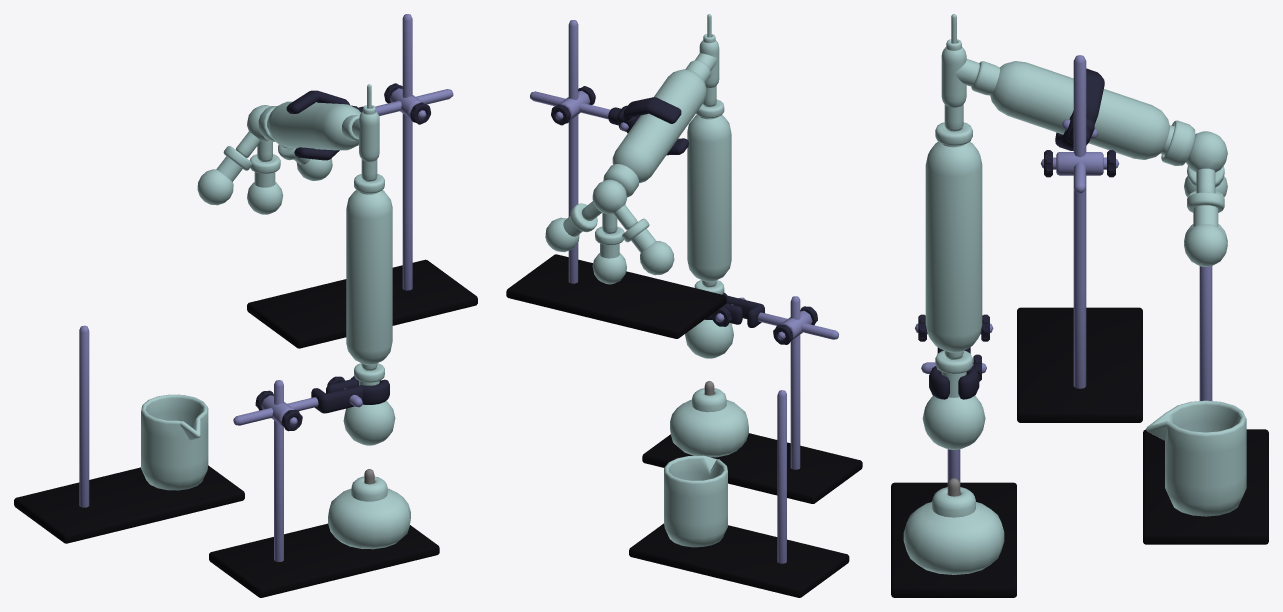
The model's file is LastLuna_Model_Station_Fractional_Distiller.fbx.
The picture shows the model from 3 angles, left to right: view 1: azimuth 30°, elevation 25°; view 2: azimuth 150°, elevation 25°; view 3: azimuth 270°, elevation 25°; orthographic projection. The views are drawn at different scales.
Parts seen in each view (by area): view 1: Stand_Base002, Stand_Base001, Fractional_Column001, Stand_Base003, Beaker001, Alcohol_Lamp001, Condenser001, Stand_Pole_Tall001, Flask_Round001, Stand_Pole002, Flask_Round_Small003, Distill_Collector001 (+8 smaller); view 2: Stand_Base003, Stand_Base002, Fractional_Column001, Stand_Base001, Beaker001, Condenser001, Alcohol_Lamp001, Multi_Flask_Adapter001, Stand_Pole_Tall001, Stand_Pole002, Stand_Pole001, Flask_Round001 (+8 smaller); view 3: Stand_Base003, Fractional_Column001, Condenser001, Beaker001, Stand_Base001, Stand_Base002, Alcohol_Lamp001, Stand_Pole_Tall001, Flask_Round001, Multi_Flask_Adapter001, Flask_Round_Small001, Distill_Collector001 (+6 smaller).
Boxes of the visible parts, left/top/right/bottom form: Stand_Base002: left=14, top=465, right=244, bottom=543; Stand_Base001: left=209, top=523, right=439, bottom=597; Fractional_Column001: left=346, top=174, right=392, bottom=370; Stand_Base003: left=247, top=259, right=477, bottom=348; Beaker001: left=141, top=394, right=208, bottom=490; Alcohol_Lamp001: left=328, top=476, right=410, bottom=549; Condenser001: left=267, top=101, right=360, bottom=150; Stand_Pole_Tall001: left=402, top=14, right=412, bottom=290; Flask_Round001: left=343, top=363, right=395, bottom=445; Stand_Pole002: left=79, top=325, right=89, bottom=507; Flask_Round_Small003: left=197, top=146, right=252, bottom=205; Distill_Collector001: left=352, top=84, right=379, bottom=181; Stand_Base003: left=506, top=254, right=726, bottom=338; Stand_Base002: left=629, top=523, right=849, bottom=597; Fractional_Column001: left=687, top=99, right=731, bottom=287; Stand_Base001: left=642, top=433, right=862, bottom=503; Beaker001: left=664, top=455, right=727, bottom=547; Condenser001: left=612, top=60, right=710, bottom=183; Alcohol_Lamp001: left=670, top=388, right=748, bottom=457; Multi_Flask_Adapter001: left=582, top=164, right=638, bottom=233; Stand_Pole_Tall001: left=568, top=20, right=578, bottom=283; Stand_Pole002: left=777, top=390, right=786, bottom=563; Stand_Pole001: left=790, top=296, right=800, bottom=469; Flask_Round001: left=685, top=280, right=733, bottom=358; Stand_Base003: left=1017, top=307, right=1142, bottom=422; Fractional_Column001: left=925, top=122, right=982, bottom=359; Condenser001: left=971, top=61, right=1174, bottom=159; Beaker001: left=1146, top=400, right=1246, bottom=516; Stand_Base001: left=891, top=482, right=1016, bottom=597; Stand_Base002: left=1143, top=429, right=1268, bottom=544; Alcohol_Lamp001: left=903, top=487, right=1004, bottom=574; Stand_Pole_Tall001: left=1073, top=55, right=1086, bottom=388; Flask_Round001: left=922, top=350, right=985, bottom=449; Multi_Flask_Adapter001: left=1161, top=120, right=1227, bottom=193; Flask_Round_Small001: left=1184, top=192, right=1227, bottom=266; Distill_Collector001: left=941, top=14, right=979, bottom=131.
Size of the model in its own units: 157 by 197 by 118.
